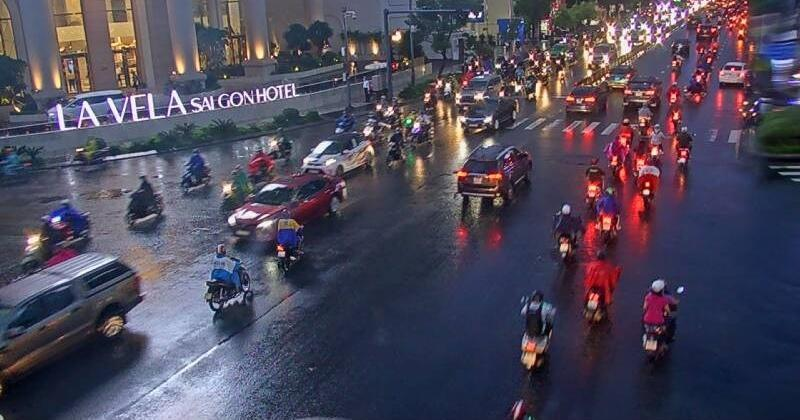xe hoi: (0, 254, 138, 366), (227, 176, 347, 236), (458, 144, 530, 196), (301, 133, 374, 172)
xe may: (641, 280, 683, 364), (517, 290, 556, 377), (203, 242, 250, 312), (582, 250, 618, 329), (550, 203, 579, 266), (276, 208, 303, 272)
